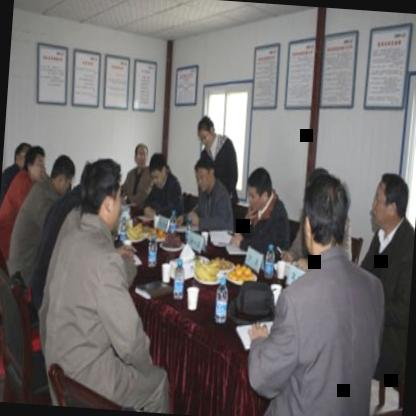head: (296, 160, 353, 266), (80, 154, 128, 233), (369, 169, 412, 238), (244, 162, 275, 222), (47, 152, 79, 202), (192, 153, 220, 197), (22, 144, 48, 186), (148, 154, 172, 192), (9, 138, 32, 172), (196, 114, 218, 148), (130, 139, 150, 172)
